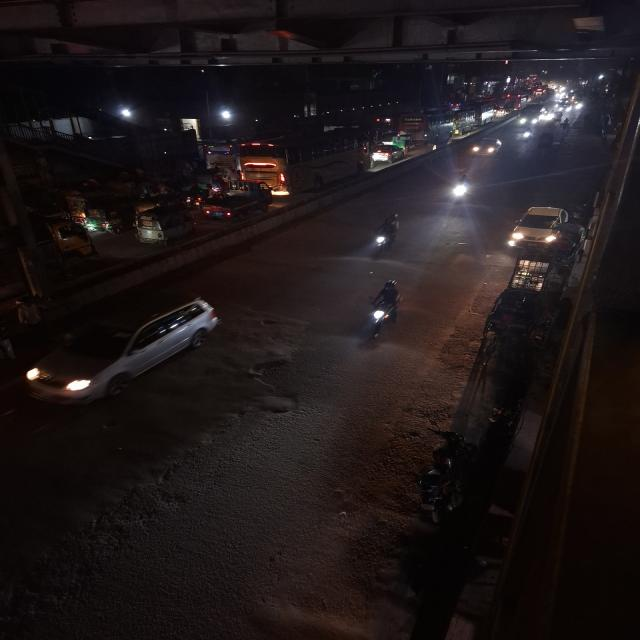bus: (232, 128, 370, 196), (397, 110, 455, 144), (518, 103, 548, 127)
car: (23, 290, 225, 410), (502, 204, 574, 250), (469, 135, 506, 159), (371, 143, 406, 163)
cng: (130, 203, 197, 245), (80, 205, 130, 238)
motorcycle: (361, 276, 406, 342), (367, 210, 405, 260), (448, 170, 476, 208)
pickup_van: (200, 178, 274, 223)
rickshaw: (502, 249, 558, 294)
